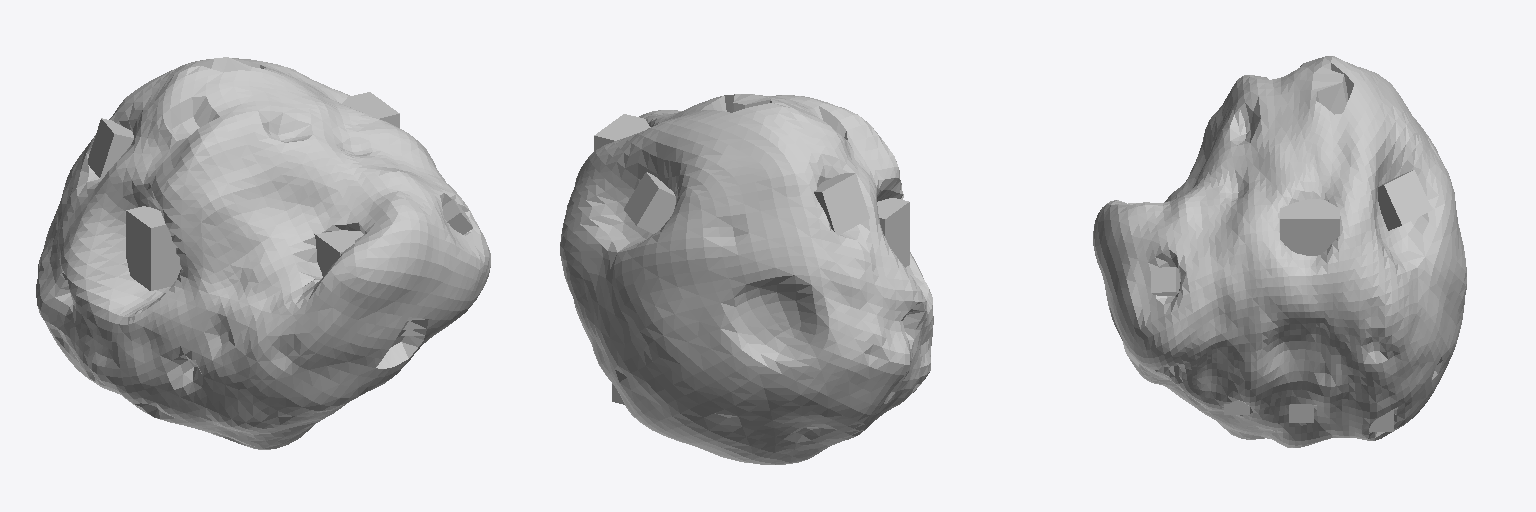
Rendered from ruda.obj.
The picture shows the model from 3 angles: view 1: azimuth 30°, elevation 25°; view 2: azimuth 150°, elevation 25°; view 3: azimuth 270°, elevation 25°; orthographic projection.
Parts seen in each view (by area): view 1: asteroid:Group1, pCube1, pasted__pCube1 group4, pCube4, pCube5, pasted__pasted__pCube5 pasted__group group2; view 2: asteroid:Group1, pasted__pCube1 group4, pCube3, pCube1, pCube5; view 3: asteroid:Group1, pCube5, pCube3, pasted__pasted__pCube5 pasted__group group2.
Part boxes in pixels (bbox=[...]): asteroid:Group1: bbox=[36, 57, 490, 449]; pCube1: bbox=[126, 206, 180, 290]; pasted__pCube1 group4: bbox=[88, 118, 133, 178]; pCube4: bbox=[314, 230, 363, 276]; pCube5: bbox=[342, 92, 399, 127]; pasted__pasted__pCube5 pasted__group group2: bbox=[442, 199, 472, 234]; asteroid:Group1: bbox=[560, 94, 933, 464]; pasted__pCube1 group4: bbox=[814, 173, 869, 235]; pCube3: bbox=[624, 172, 675, 233]; pCube1: bbox=[877, 198, 909, 267]; pCube5: bbox=[594, 114, 650, 150]; asteroid:Group1: bbox=[1093, 56, 1466, 447]; pCube5: bbox=[1280, 199, 1339, 255]; pCube3: bbox=[1378, 170, 1432, 230]; pasted__pasted__pCube5 pasted__group group2: bbox=[1151, 267, 1180, 295].
Bounding box in the file's own units: 1.73 × 1.65 × 1.57.